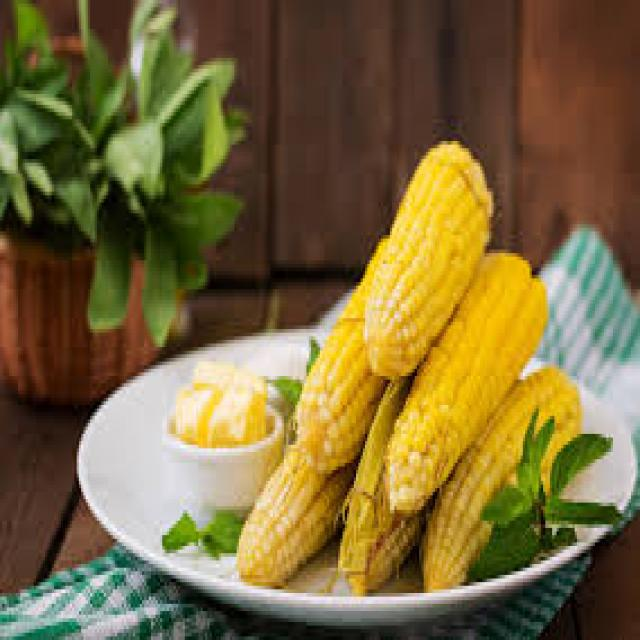corn: (389, 222, 542, 520), (420, 340, 598, 585), (354, 135, 490, 390), (232, 389, 362, 580), (302, 233, 403, 477)
